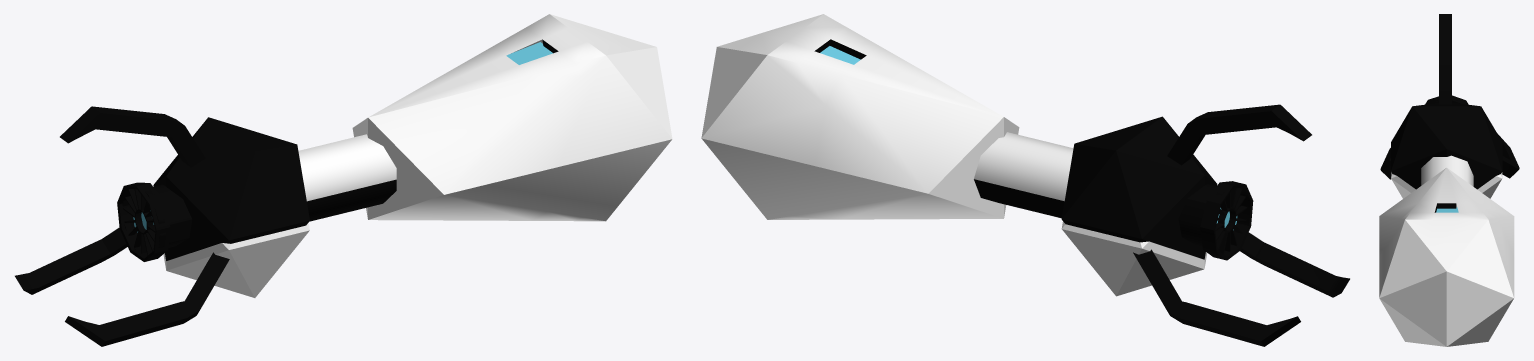
The model's file is low_poly_portal_gun.glb.
3 views of the same model, side by side, from view 1: azimuth 30°, elevation 25°; view 2: azimuth 150°, elevation 25°; view 3: azimuth 270°, elevation 25° (orthographic). The views are drawn at different scales.
Visible parts, largest first — view 1: Object_2, Object_3, Object_4, Object_5, Object_6; view 2: Object_2, Object_3, Object_4, Object_5; view 3: Object_2, Object_3, Object_4, Object_5.
Boxes of the visible parts, x1=… form: Object_2: x1=163, y1=14, x2=672, y2=297; Object_3: x1=117, y1=39, x2=558, y2=261; Object_4: x1=15, y1=106, x2=229, y2=346; Object_5: x1=298, y1=134, x2=396, y2=201; Object_6: x1=133, y1=42, x2=552, y2=232; Object_2: x1=701, y1=14, x2=1207, y2=296; Object_3: x1=814, y1=39, x2=1253, y2=260; Object_4: x1=1133, y1=104, x2=1349, y2=346; Object_5: x1=974, y1=132, x2=1073, y2=201; Object_2: x1=1379, y1=167, x2=1514, y2=346; Object_3: x1=1391, y1=95, x2=1502, y2=212; Object_4: x1=1380, y1=14, x2=1519, y2=179; Object_5: x1=1421, y1=155, x2=1473, y2=207.
Size of the model in its own units: 0.8945 by 0.2916 by 0.2405.
5 materials, 1 textured.
